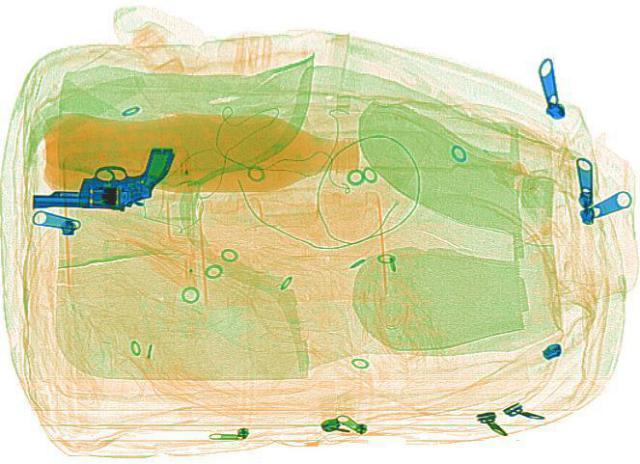Gun: (23, 131, 201, 237)
